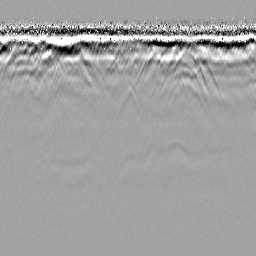cavity: (115, 84, 142, 118)
